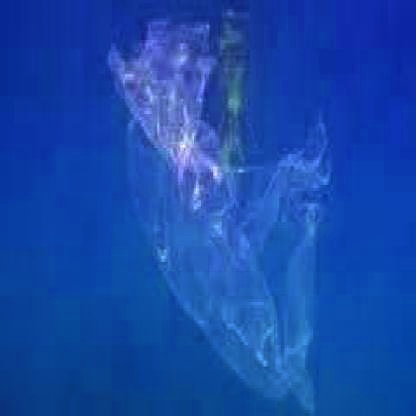pbag: (104, 15, 335, 413)
